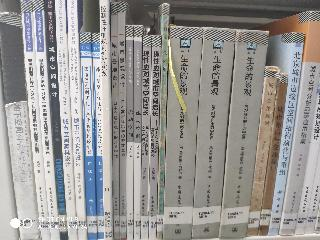book-spine: (220, 30, 268, 239), (276, 11, 320, 236), (191, 28, 235, 239), (0, 14, 39, 239), (163, 27, 202, 239), (269, 33, 304, 235), (21, 1, 49, 239), (33, 0, 59, 239), (247, 67, 278, 237), (46, 1, 67, 239), (56, 1, 76, 239), (260, 75, 287, 235), (68, 0, 86, 239), (80, 33, 97, 239), (155, 4, 169, 239), (99, 1, 112, 239), (140, 35, 151, 239), (149, 37, 160, 239), (111, 3, 120, 239), (93, 34, 103, 239), (119, 2, 126, 240), (134, 26, 141, 239), (127, 25, 133, 239)
